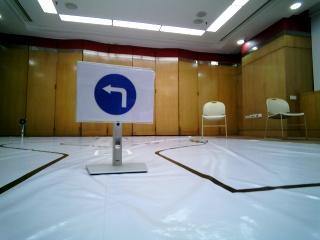left: (86, 69, 144, 119)
